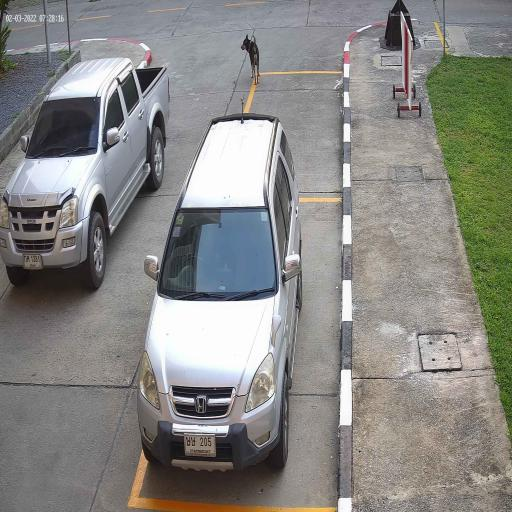car: (137, 113, 302, 475), (0, 57, 171, 287)
